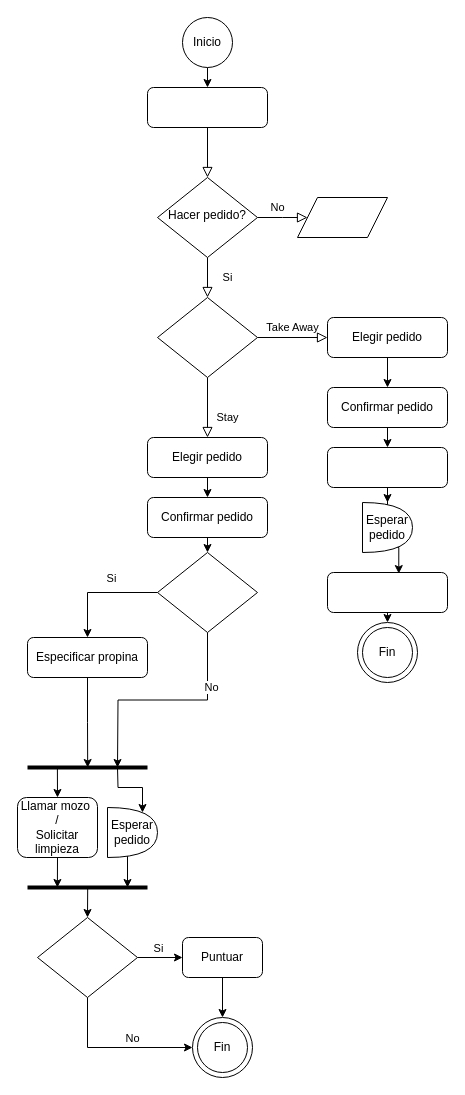
This 465x1095 diagram has some shape labels left out. The box of each missing label's shape, as (x1, y1, x2, y2) in pixels:
Agregar propina?: (156, 552, 258, 632)
Calificar servicio?: (36, 916, 138, 998)
Cliente se sienta en mesa: (146, 86, 268, 128)
Pagar: (326, 446, 448, 488)
Retirar pedido: (326, 572, 448, 612)
Take Away o Stay: (156, 296, 258, 378)
